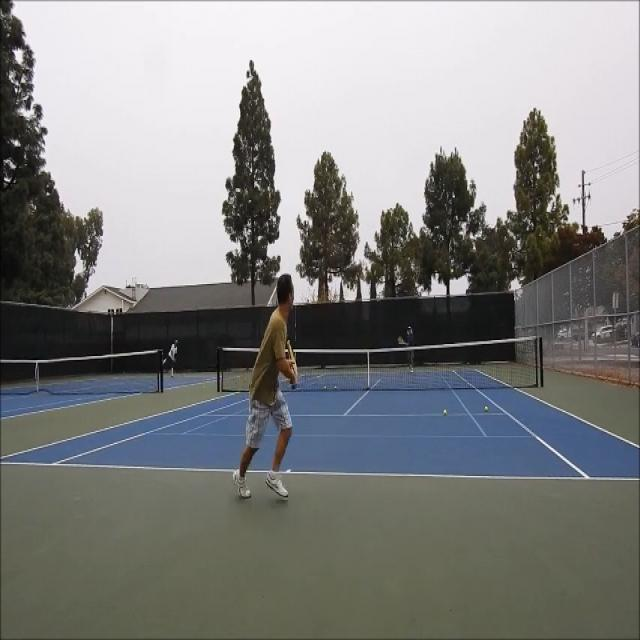court: (0, 370, 640, 480)
net: (216, 332, 546, 392)
player: (233, 274, 298, 500)
